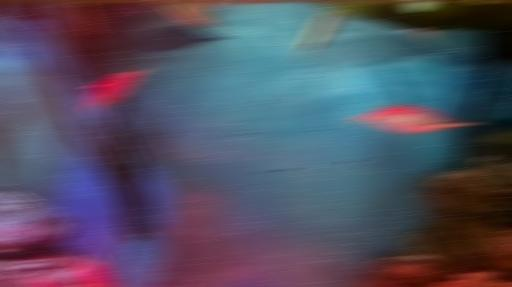Fish: (354, 102, 477, 133), (86, 63, 153, 116), (132, 24, 227, 51), (293, 10, 342, 60), (165, 2, 228, 31), (74, 255, 104, 286), (78, 4, 101, 37), (408, 28, 441, 46), (403, 1, 438, 12), (28, 270, 44, 286), (202, 0, 219, 10), (469, 0, 490, 4)
